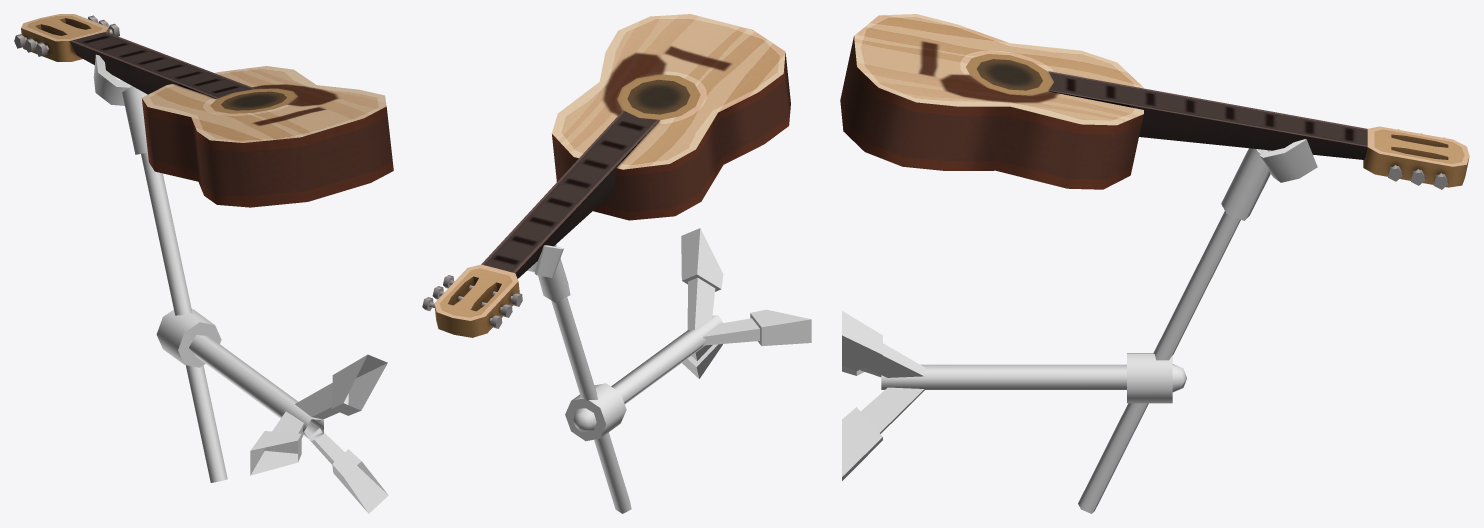
The model's file is InteractiveAcousticGuitar.fbx.
3 renders of one model, left to right at view 1: azimuth 30°, elevation 25°; view 2: azimuth 150°, elevation 25°; view 3: azimuth 270°, elevation 25°, orthographic. The views are drawn at different scales.
Visible parts, largest first — view 1: InteractiveAcousticGuitar, InteractiveAcousticGuitarStand; view 2: InteractiveAcousticGuitar, InteractiveAcousticGuitarStand; view 3: InteractiveAcousticGuitar, InteractiveAcousticGuitarStand.
Boxes of the visible parts, <box> form: InteractiveAcousticGuitar: <box>14,14,393,207</box>; InteractiveAcousticGuitarStand: <box>93,54,388,513</box>; InteractiveAcousticGuitar: <box>422,14,790,337</box>; InteractiveAcousticGuitarStand: <box>527,228,811,513</box>; InteractiveAcousticGuitar: <box>840,14,1469,189</box>; InteractiveAcousticGuitarStand: <box>842,139,1317,513</box>.
Size of the model in its own units: 29.02 by 68.77 by 84.49.
